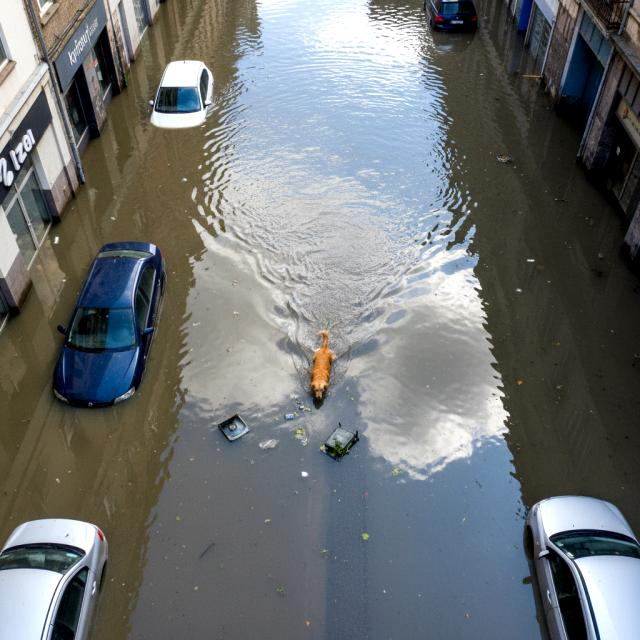dog: (294, 326, 344, 413)
